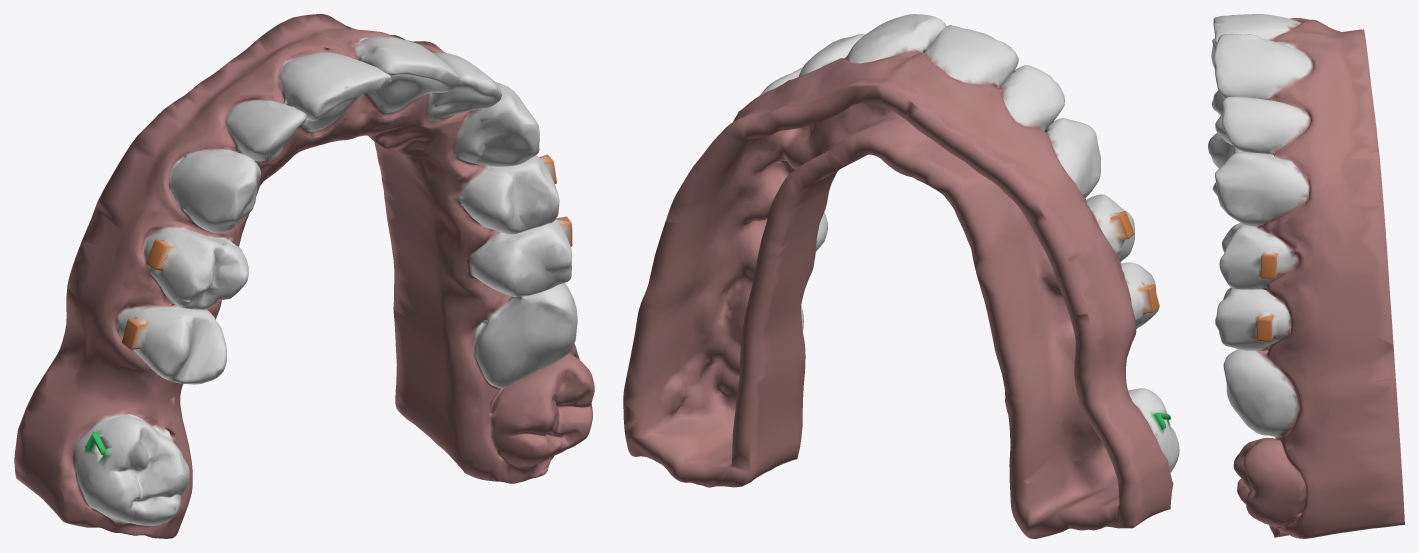
File: upper-model-7.glb
3 views of the same model, side by side, from view 1: azimuth 30°, elevation 25°; view 2: azimuth 150°, elevation 25°; view 3: azimuth 270°, elevation 25° (orthographic). The views are drawn at different scales.
Parts seen in each view (by area): view 1: 7; view 2: 7; view 3: 7.
Boxes of the visible parts, x1,y1,x2,y2 form: 7: [14, 14, 594, 538]; 7: [623, 14, 1179, 538]; 7: [1208, 14, 1404, 538].
Bounding box in the file's own units: 57.02 × 49.37 × 20.59.
